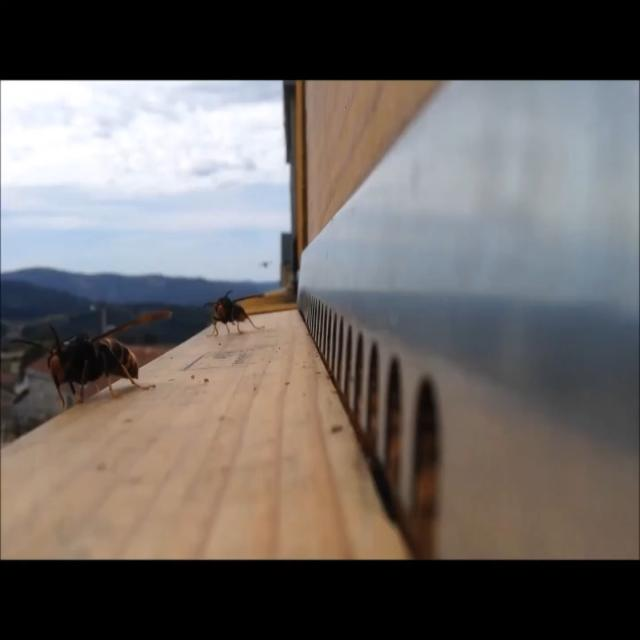Hornets: (9, 308, 169, 412), (194, 282, 266, 341)
